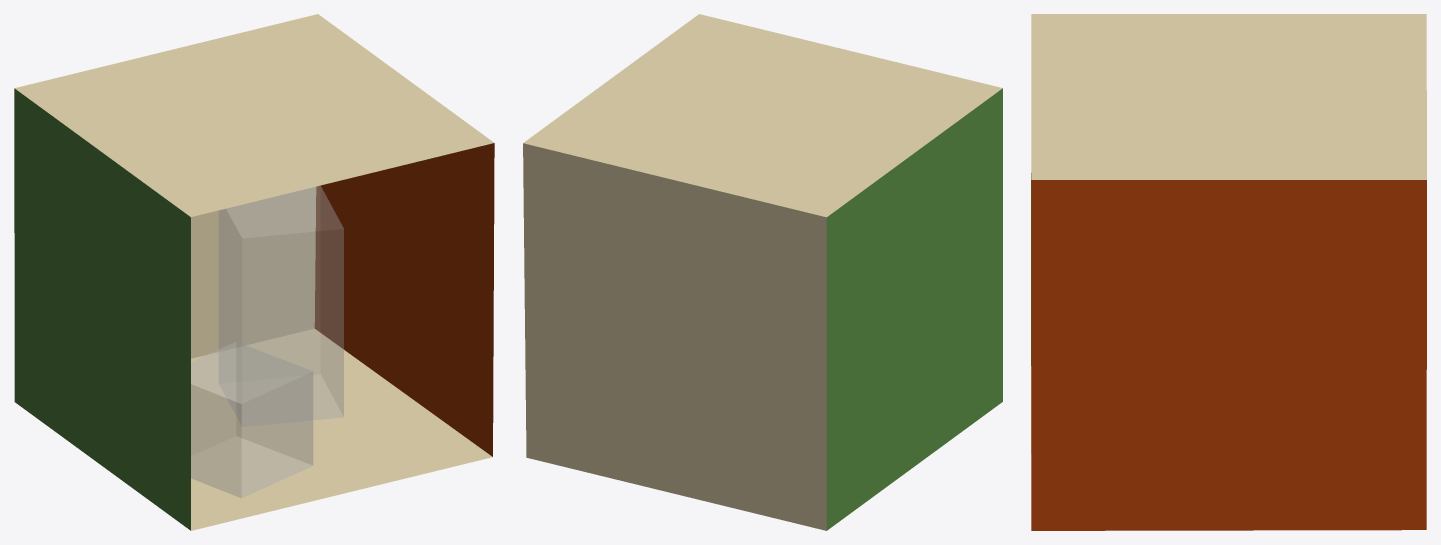
File: cornellbox_glass_plane_light.glb
The picture shows the model from 3 angles, left to right: view 1: azimuth 30°, elevation 25°; view 2: azimuth 150°, elevation 25°; view 3: azimuth 270°, elevation 25°; orthographic projection. The views are drawn at different scales.
Visible parts, largest first — view 1: CornellBox_Glass; view 2: CornellBox_Glass; view 3: CornellBox_Glass.
Boxes of the visible parts, box(x1,y1,x2,y2) form: CornellBox_Glass: box(14, 14, 494, 530); CornellBox_Glass: box(523, 14, 1002, 530); CornellBox_Glass: box(1031, 14, 1426, 530).
Size of the model in its own units: 0.7808 by 0.7709 by 0.7855.
